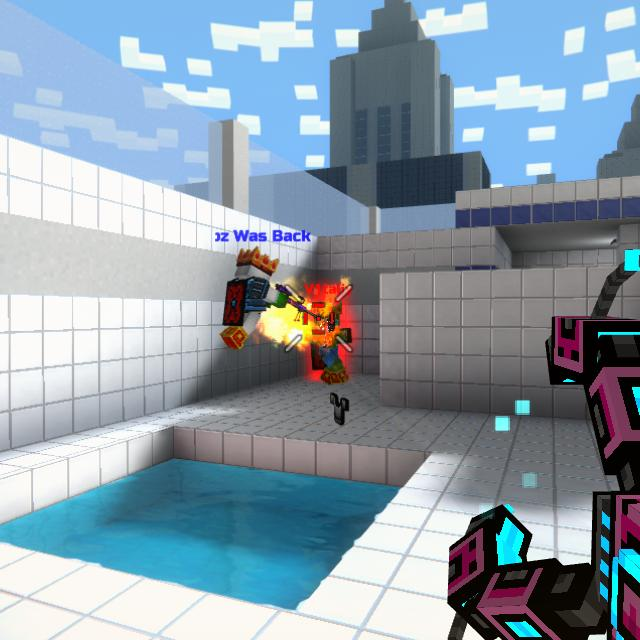Enemy: (305, 302, 351, 383)
